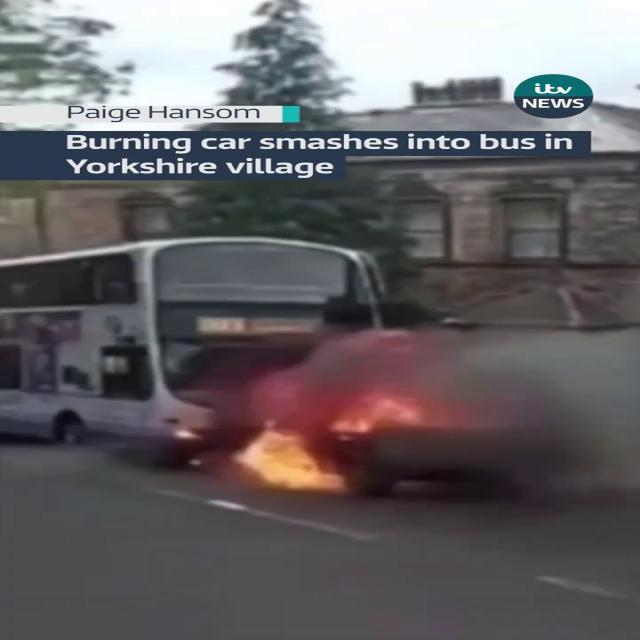Fire: (228, 378, 430, 496)
